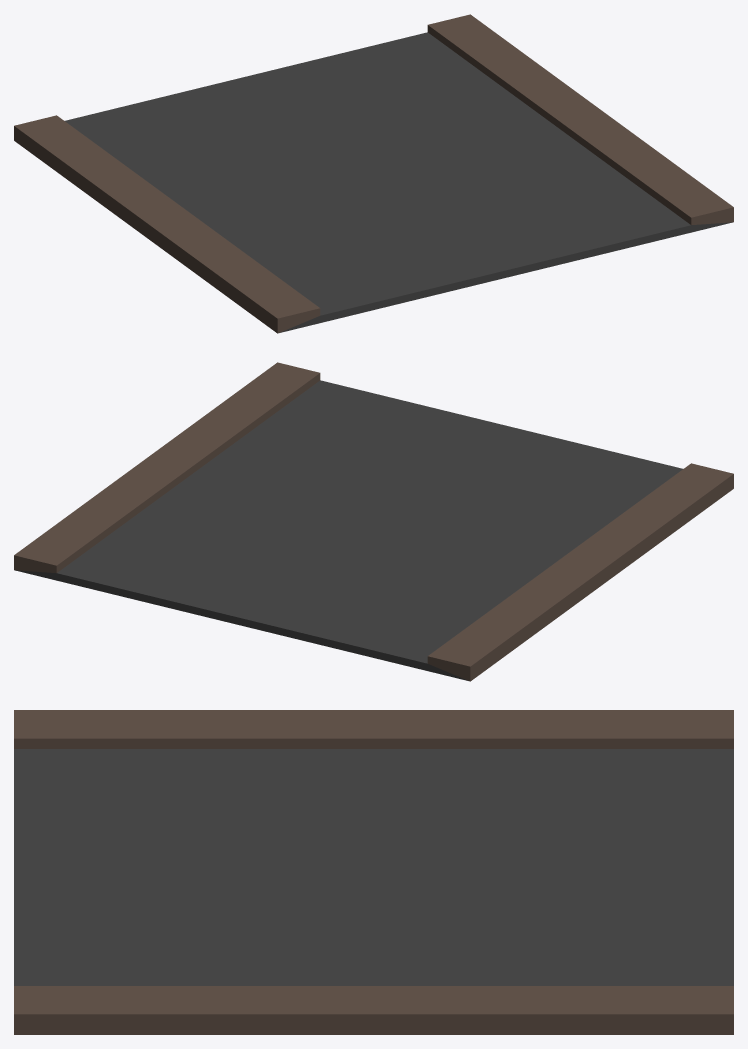
File: left_right.glb
3 views of the same model, one above another, from view 1: azimuth 30°, elevation 25°; view 2: azimuth 150°, elevation 25°; view 3: azimuth 270°, elevation 25° (orthographic). The views are drawn at different scales.
Visible parts, largest first — view 1: Maxis-3d1-mesh-60; view 2: Maxis-3d1-mesh-60; view 3: Maxis-3d1-mesh-60.
Part boxes in pixels (bbox=[...]): Maxis-3d1-mesh-60: bbox=[14, 14, 733, 333]; Maxis-3d1-mesh-60: bbox=[14, 362, 733, 681]; Maxis-3d1-mesh-60: bbox=[14, 710, 733, 1034].
Size of the model in its own units: 16 by 0.5 by 16.
